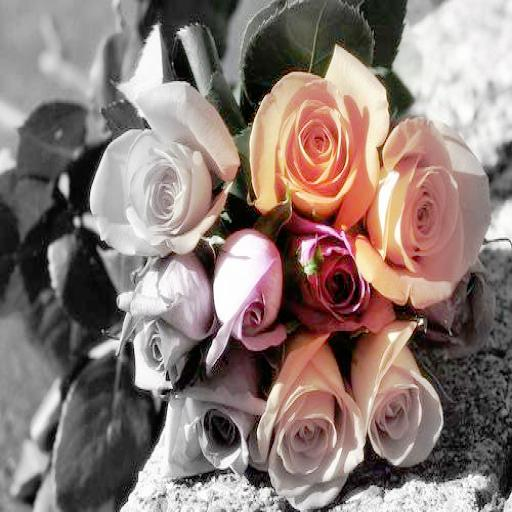rose: (250, 42, 387, 217), (94, 83, 236, 242), (366, 120, 458, 308), (256, 334, 358, 495), (352, 318, 446, 473), (123, 248, 205, 382), (286, 218, 374, 331), (180, 376, 259, 489), (212, 229, 284, 345)
